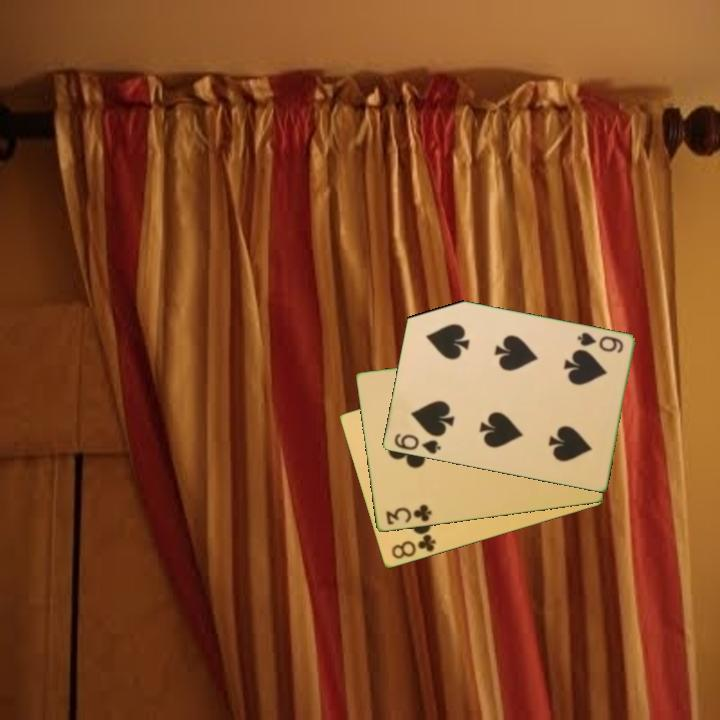3c: (382, 501, 434, 528)
6s: (573, 329, 626, 357), (390, 430, 443, 457)
8c: (388, 531, 439, 562)
